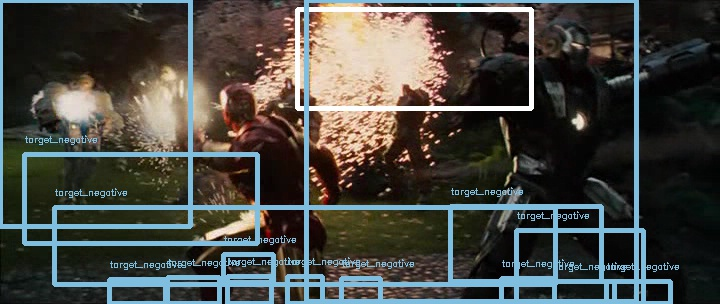person: (215, 79, 256, 126), (214, 79, 255, 126), (216, 79, 257, 126), (215, 78, 256, 125), (215, 80, 256, 127)
target_negative: (312, 20, 659, 267), (504, 236, 656, 281), (380, 189, 563, 205), (675, 162, 688, 278), (483, 156, 508, 172), (653, 157, 658, 219)
